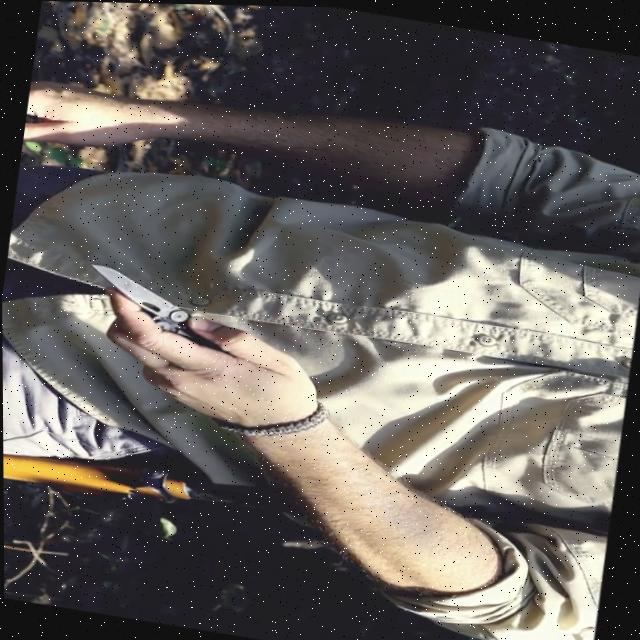knife: (81, 261, 194, 333)
